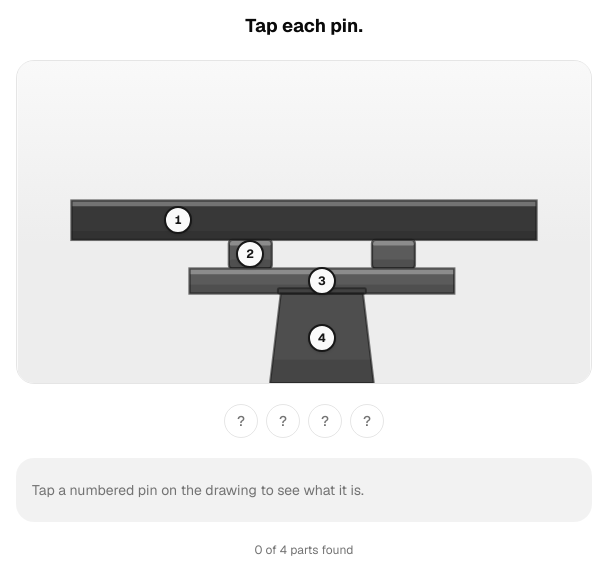
Test: PartsExplore › lets a part that has been found be tapped again to read it
The width and height of the screenshot is (609, 574).
// Find two parts: the last one read is the one on screen.
Click the button named "Part 1": (178, 220) [164,206,192,234]
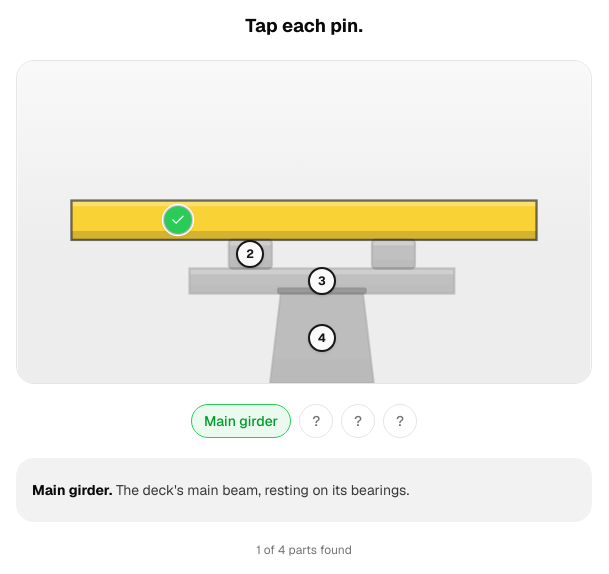
Click the button named "Part 2": (250, 254) [236,240,264,268]
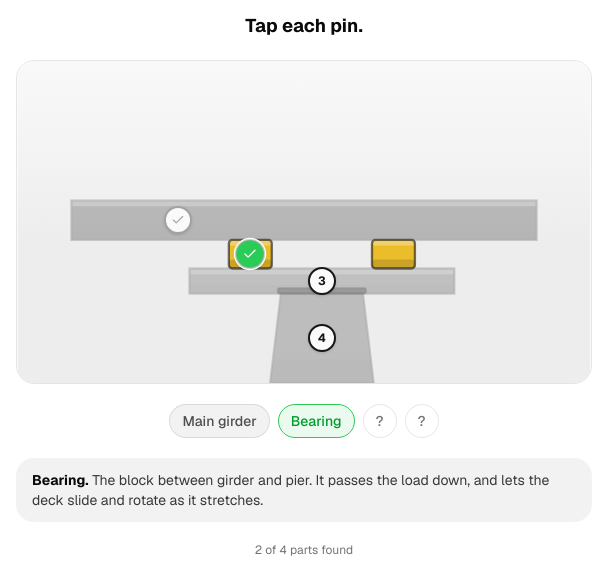
Expected: the text "2 of 4 parts found" is shown, [255,542,353,558]
Expected: the text "Bearing." is shown, [32,471,89,489]
// The first one is already found, and its pin still answers a tap.
Click the button named "Main girder": (178, 220) [164,206,192,234]
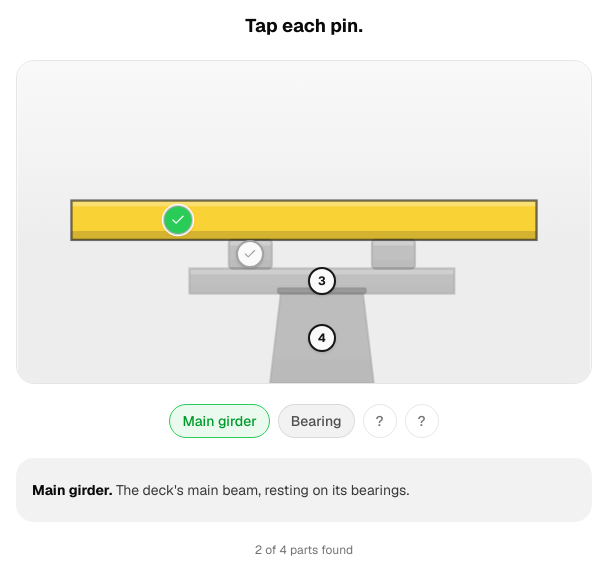
Expected: the text "2 of 4 parts found" is shown, [255,542,353,558]
Expected: the text "Main girder." is shown, [32,481,112,499]
